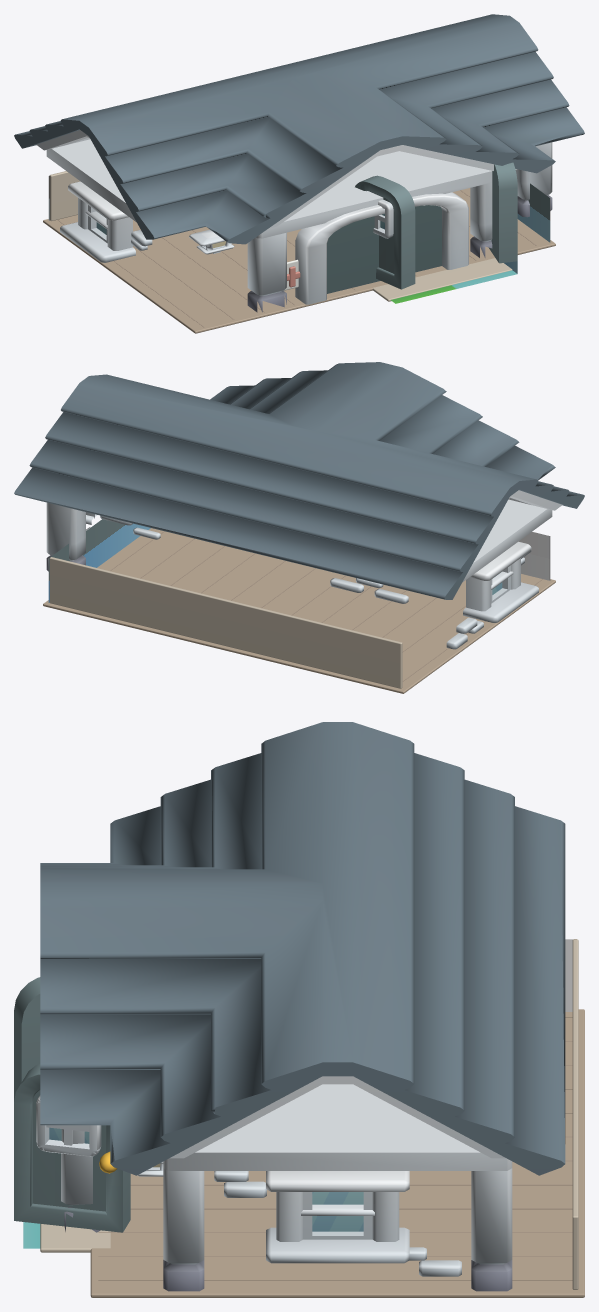
File: clinic.glb
3 views of the same model, one above another, from view 1: azimuth 30°, elevation 25°; view 2: azimuth 150°, elevation 25°; view 3: azimuth 270°, elevation 25° (orthographic). The views are drawn at different scales.
Visible parts, largest first — view 1: roof_house.001, body_house, interior_floor, body_open_door, body_open_door.001, body_door_threshold, body_inner_back; view 2: roof_house.001, interior_floor, body_inner_back, body_house; view 3: roof_house.001, body_house, interior_floor, body_open_door.001, body_inner_back, body_open_door, body_door_threshold.
Part boxes in pixels (box(x1,y1,x2,y2)): roof_house.001: box(15, 14, 583, 244); body_house: box(14, 130, 584, 312); interior_floor: box(43, 188, 555, 333); body_open_door: box(355, 175, 415, 289); body_open_door.001: box(488, 162, 517, 263); body_door_threshold: box(372, 258, 512, 301); body_inner_back: box(49, 171, 80, 221); roof_house.001: box(14, 362, 584, 599); interior_floor: box(43, 528, 555, 693); body_inner_back: box(49, 557, 402, 688); body_house: box(14, 465, 584, 649); roof_house.001: box(40, 722, 565, 1175); body_house: box(23, 820, 572, 1291); interior_floor: box(90, 1009, 584, 1297); body_open_door.001: box(14, 1064, 130, 1232); body_inner_back: box(572, 939, 578, 1289); body_open_door: box(14, 977, 40, 1101); body_door_threshold: box(40, 1224, 110, 1252).
Bounding box in the file's own units: 1086 × 385 × 757.
6 materials, 1 textured.
